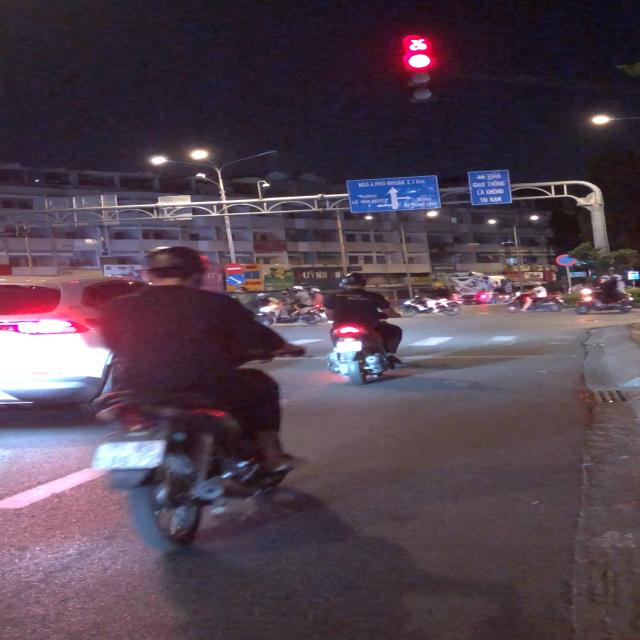Bien bao cam di nguoc chieu: (221, 262, 245, 274)
Bien bao cam do xe: (555, 253, 577, 266)
Bien bao huong phai di vong chuong ngai vat: (224, 274, 246, 286)
